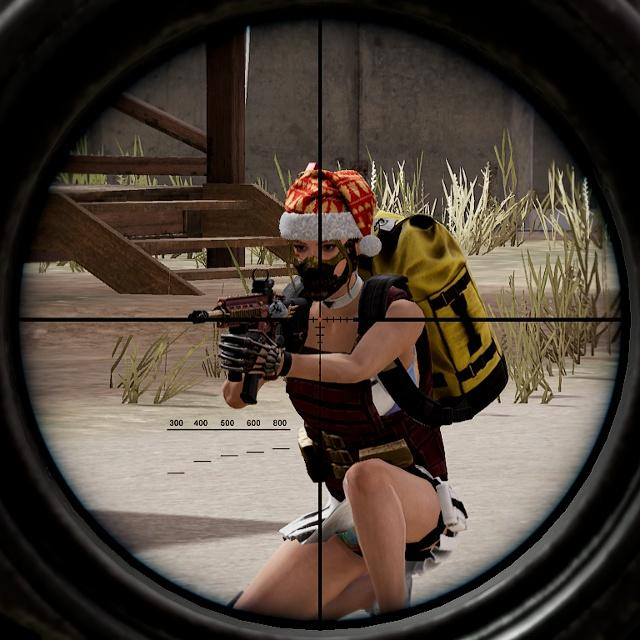head: (275, 161, 386, 311)
people: (203, 159, 495, 630)
